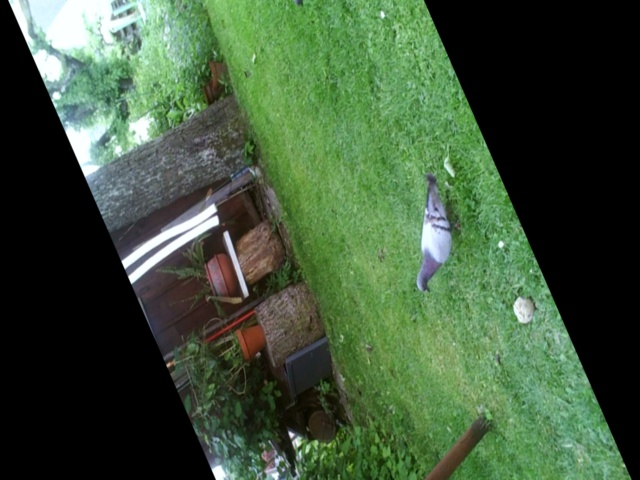Pigeon: (410, 172, 461, 303)
